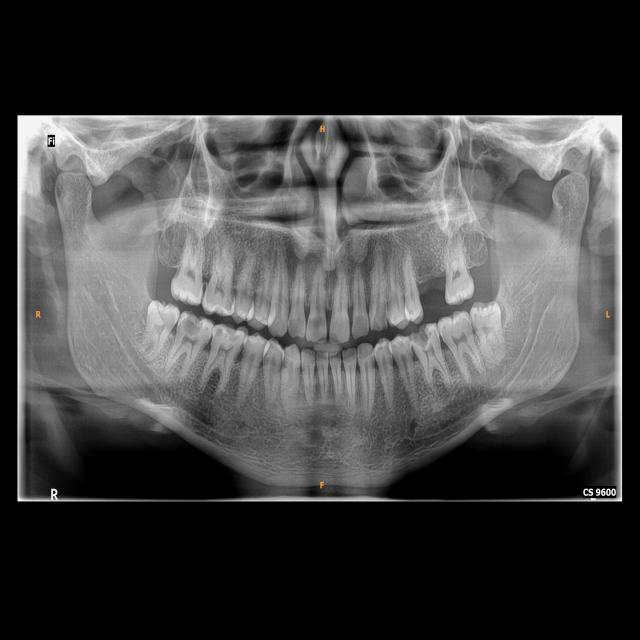dentin-curugu: (180, 308, 204, 337), (411, 324, 433, 352)
